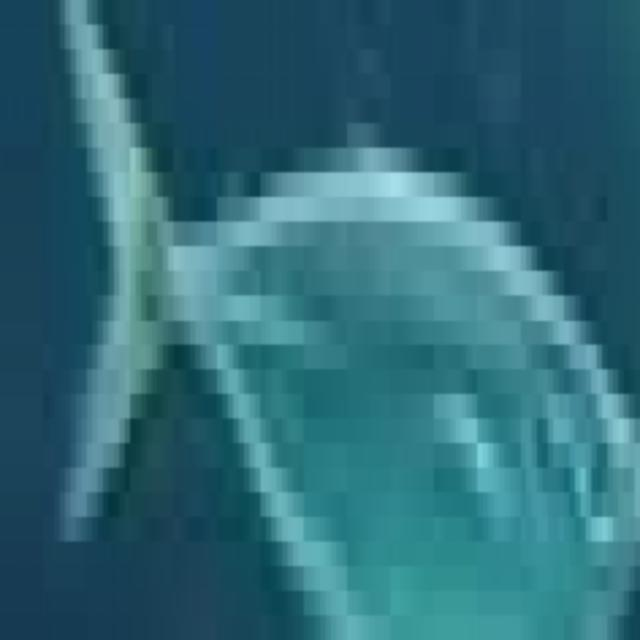fish: (5, 24, 639, 640)
